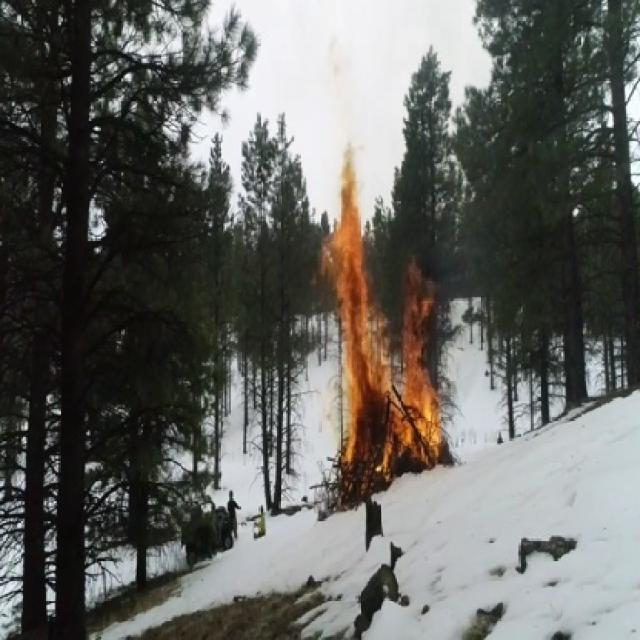Fire: (312, 138, 445, 502)
